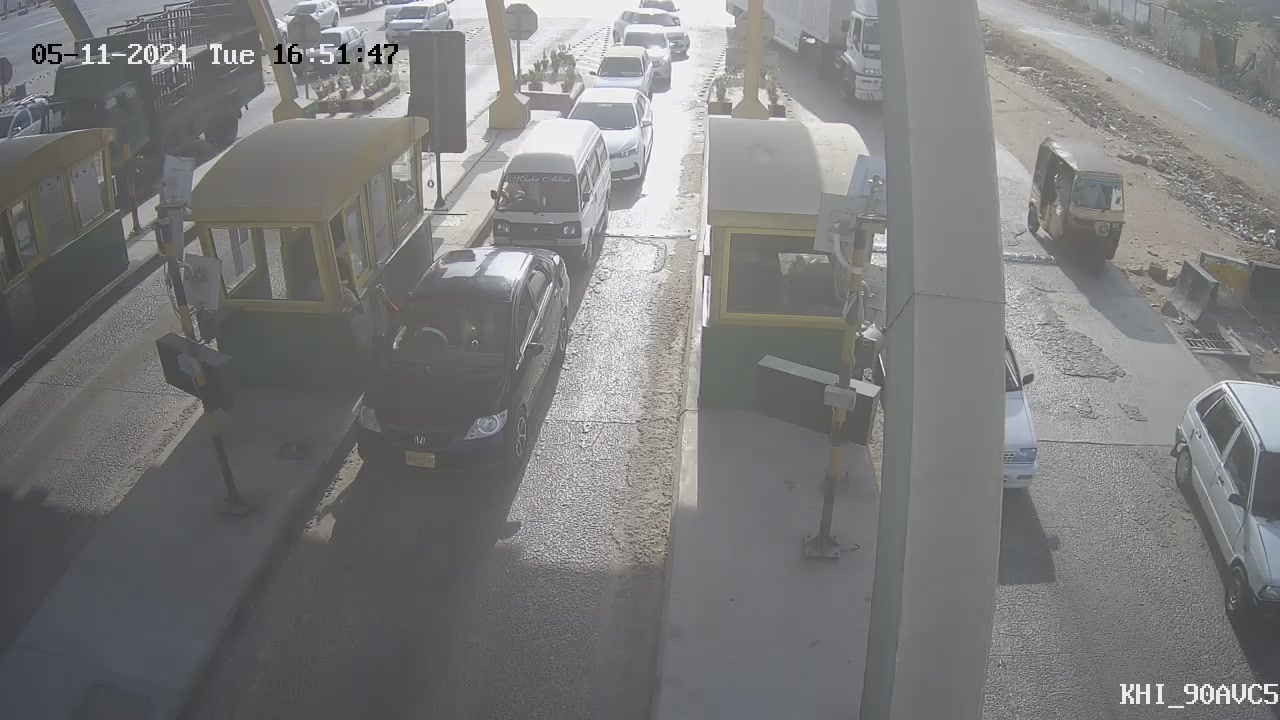F1: (330, 226, 589, 507), (465, 104, 626, 290)
